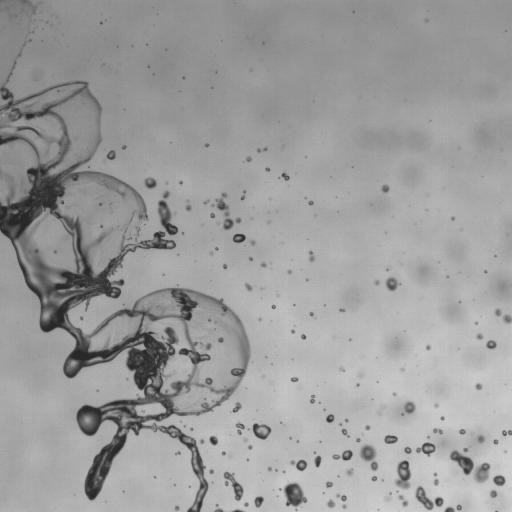droplet: (414, 486, 443, 511), (281, 482, 307, 508), (359, 444, 378, 471), (394, 460, 411, 489), (251, 423, 271, 439), (416, 442, 435, 456), (289, 459, 307, 471), (385, 277, 400, 291), (144, 177, 156, 189), (404, 401, 415, 413), (235, 422, 245, 434), (493, 475, 505, 485), (233, 234, 245, 243), (384, 435, 397, 443), (231, 402, 241, 412), (254, 496, 263, 507), (486, 340, 496, 349), (209, 435, 218, 445), (314, 455, 321, 467), (106, 150, 115, 159), (280, 172, 289, 180), (381, 184, 389, 193), (503, 314, 511, 323), (326, 414, 334, 422), (326, 500, 335, 507), (494, 308, 501, 316), (341, 428, 348, 436), (477, 435, 484, 443), (489, 490, 497, 497), (502, 430, 511, 436), (309, 251, 314, 261), (245, 283, 252, 290), (404, 446, 411, 453), (346, 468, 353, 475), (384, 494, 391, 501), (433, 428, 442, 433), (185, 203, 191, 210), (475, 383, 482, 389), (325, 481, 332, 487), (290, 377, 298, 382), (310, 395, 315, 403), (476, 333, 482, 339), (458, 429, 465, 434), (249, 240, 255, 245), (371, 476, 377, 481), (246, 156, 251, 161), (53, 249, 58, 254), (261, 262, 266, 267), (374, 279, 379, 284), (301, 334, 306, 339), (365, 425, 370, 430), (493, 439, 498, 444), (175, 505, 179, 511), (308, 201, 313, 205), (210, 213, 214, 218), (426, 345, 430, 350), (339, 367, 344, 371), (209, 469, 213, 474), (265, 167, 269, 171), (204, 200, 208, 204), (223, 264, 227, 268), (434, 403, 438, 407), (440, 416, 444, 420), (200, 439, 204, 443), (356, 438, 360, 442), (248, 445, 252, 449), (244, 502, 248, 506), (342, 504, 346, 508), (205, 143, 208, 147), (122, 145, 125, 149), (209, 252, 213, 255), (340, 308, 344, 311), (221, 451, 225, 454), (179, 181, 182, 184), (249, 257, 252, 260), (288, 270, 291, 273), (272, 305, 275, 308), (310, 312, 313, 315), (291, 330, 294, 333), (217, 372, 220, 375), (345, 418, 348, 421), (244, 438, 247, 441), (176, 451, 179, 454), (268, 467, 271, 470), (66, 206, 69, 208), (451, 217, 454, 219), (215, 247, 217, 250), (80, 317, 83, 319), (258, 318, 261, 320), (401, 368, 403, 371), (393, 392, 395, 395), (378, 411, 381, 413), (102, 196, 104, 198), (207, 370, 209, 372), (359, 375, 361, 377), (357, 384, 359, 386), (339, 423, 341, 425), (190, 428, 192, 430)
ligament: (0, 61, 244, 511), (450, 448, 490, 483), (211, 192, 241, 229), (223, 471, 243, 500), (15, 0, 36, 14), (332, 450, 352, 460), (398, 494, 408, 506), (444, 505, 461, 511), (73, 126, 79, 140), (134, 224, 140, 237), (336, 494, 346, 501), (214, 505, 225, 511), (433, 473, 438, 485), (257, 147, 267, 152), (0, 0, 8, 4), (241, 191, 245, 199), (17, 50, 21, 57), (230, 509, 244, 511)
